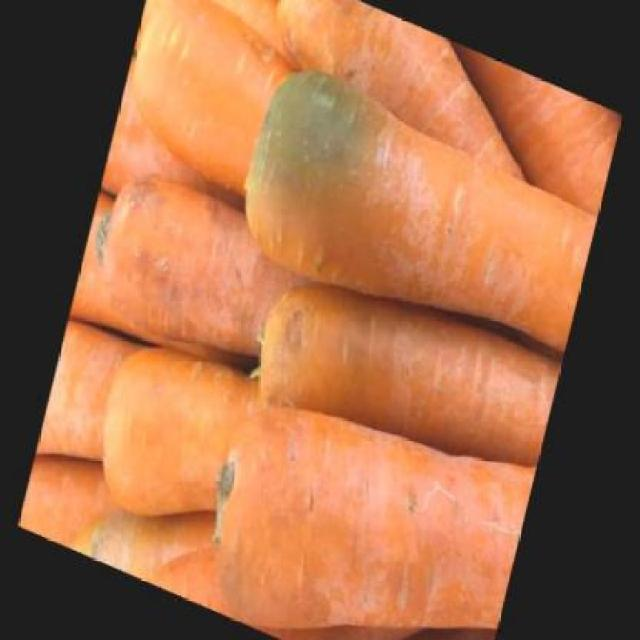carrot: (228, 46, 604, 385), (192, 344, 538, 638), (245, 234, 564, 520), (78, 149, 344, 402), (360, 11, 622, 214), (262, 0, 552, 182), (85, 316, 272, 552), (117, 0, 311, 205), (143, 508, 428, 638), (101, 50, 268, 242), (65, 452, 227, 606), (70, 189, 210, 360), (134, 0, 320, 117), (37, 312, 151, 486), (18, 432, 157, 573), (349, 580, 497, 638)
